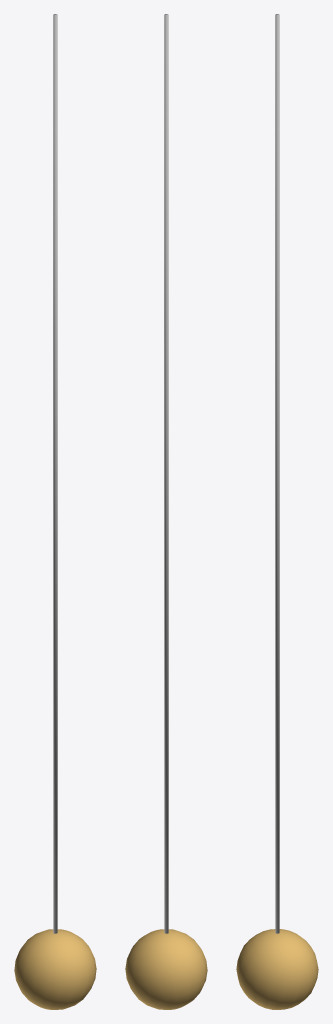
Rendered from pendulum_snake_p11.glb.
3 renders of one model, left to right at view 1: azimuth 30°, elevation 25°; view 2: azimuth 150°, elevation 25°; view 3: azimuth 330°, elevation 25°, orthographic.
Parts seen in each view (by area): view 1: Sphere11.001, Pendulum11.001; view 2: Sphere11.001, Pendulum11.001; view 3: Sphere11.001, Pendulum11.001.
Part boxes in pixels (x1,y1,x2,y2): Sphere11.001: (14,929,96,1009); Pendulum11.001: (53,14,57,933); Sphere11.001: (125,929,207,1009); Pendulum11.001: (164,14,168,933); Sphere11.001: (236,929,318,1009); Pendulum11.001: (275,14,279,933).
Bounding box in the file's own units: 0.04 × 0.5377 × 0.04.
